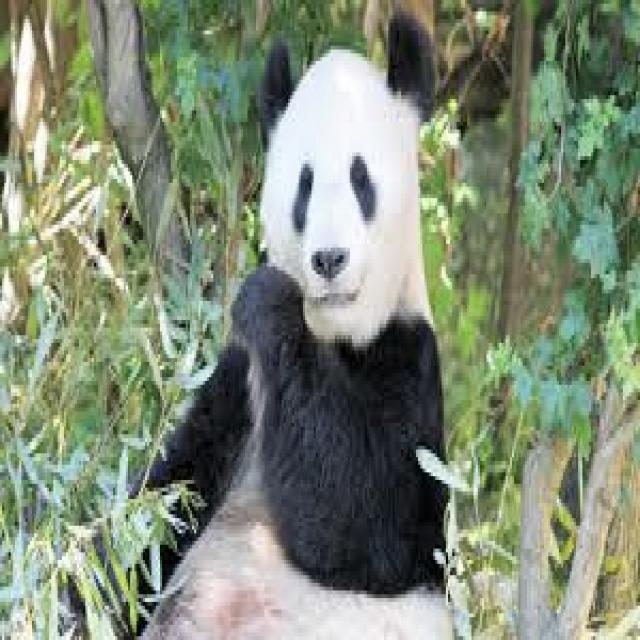panda: (143, 11, 452, 636)
